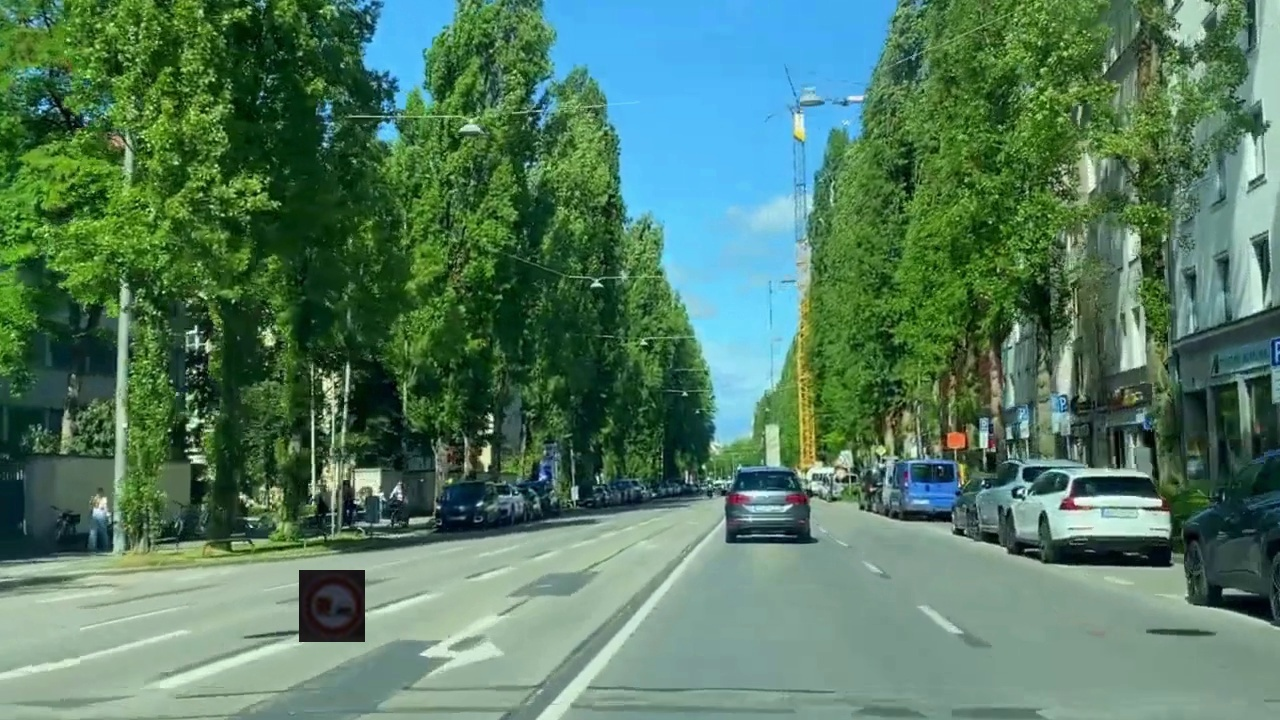No pass >3.5t: (299, 570, 365, 642)
